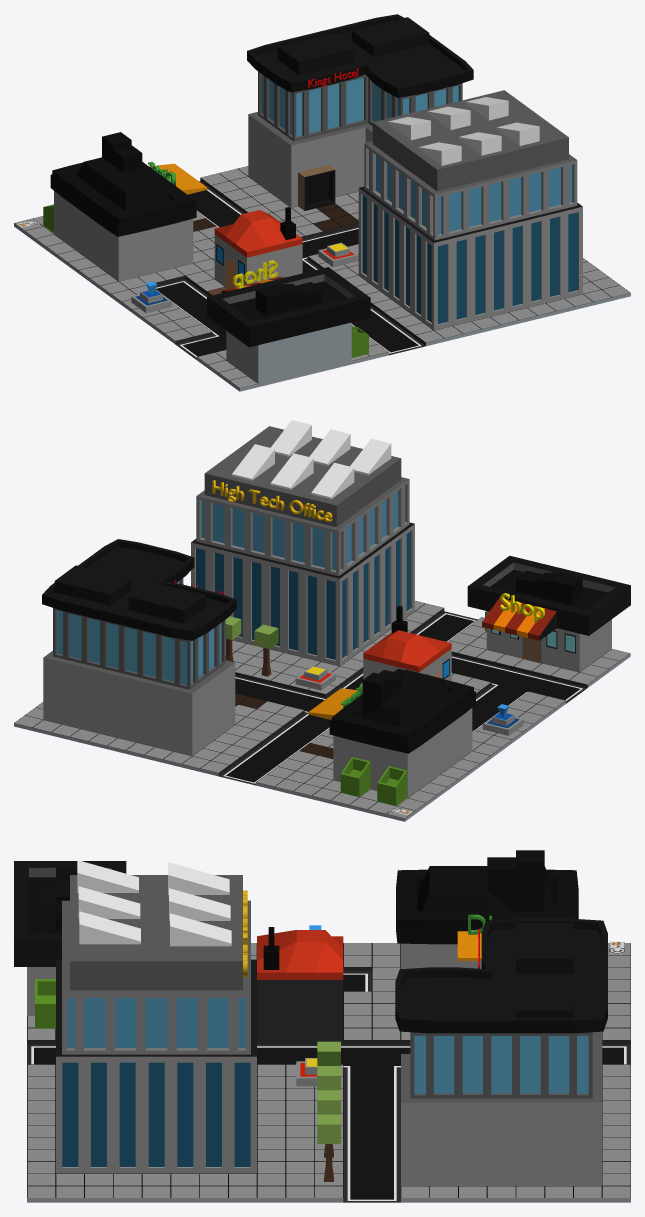
File: רחוב מודל שטח .fbx
3 views of the same model, one above another, from view 1: azimuth 30°, elevation 25°; view 2: azimuth 150°, elevation 25°; view 3: azimuth 270°, elevation 25° (orthographic). The views are drawn at different scales.
Visible parts, largest first — view 1: Plane, Text.003; view 2: Plane, Text.001; view 3: Plane.
Part boxes in pixels (x1,y1,x2,y2): Plane: (14, 14, 630, 391); Text.003: (232, 260, 277, 288); Plane: (14, 420, 630, 821); Text.001: (212, 480, 332, 521); Plane: (14, 850, 630, 1202).
Bounding box in the file's own units: 400 × 169 × 409.
6 materials, 2 textured.
